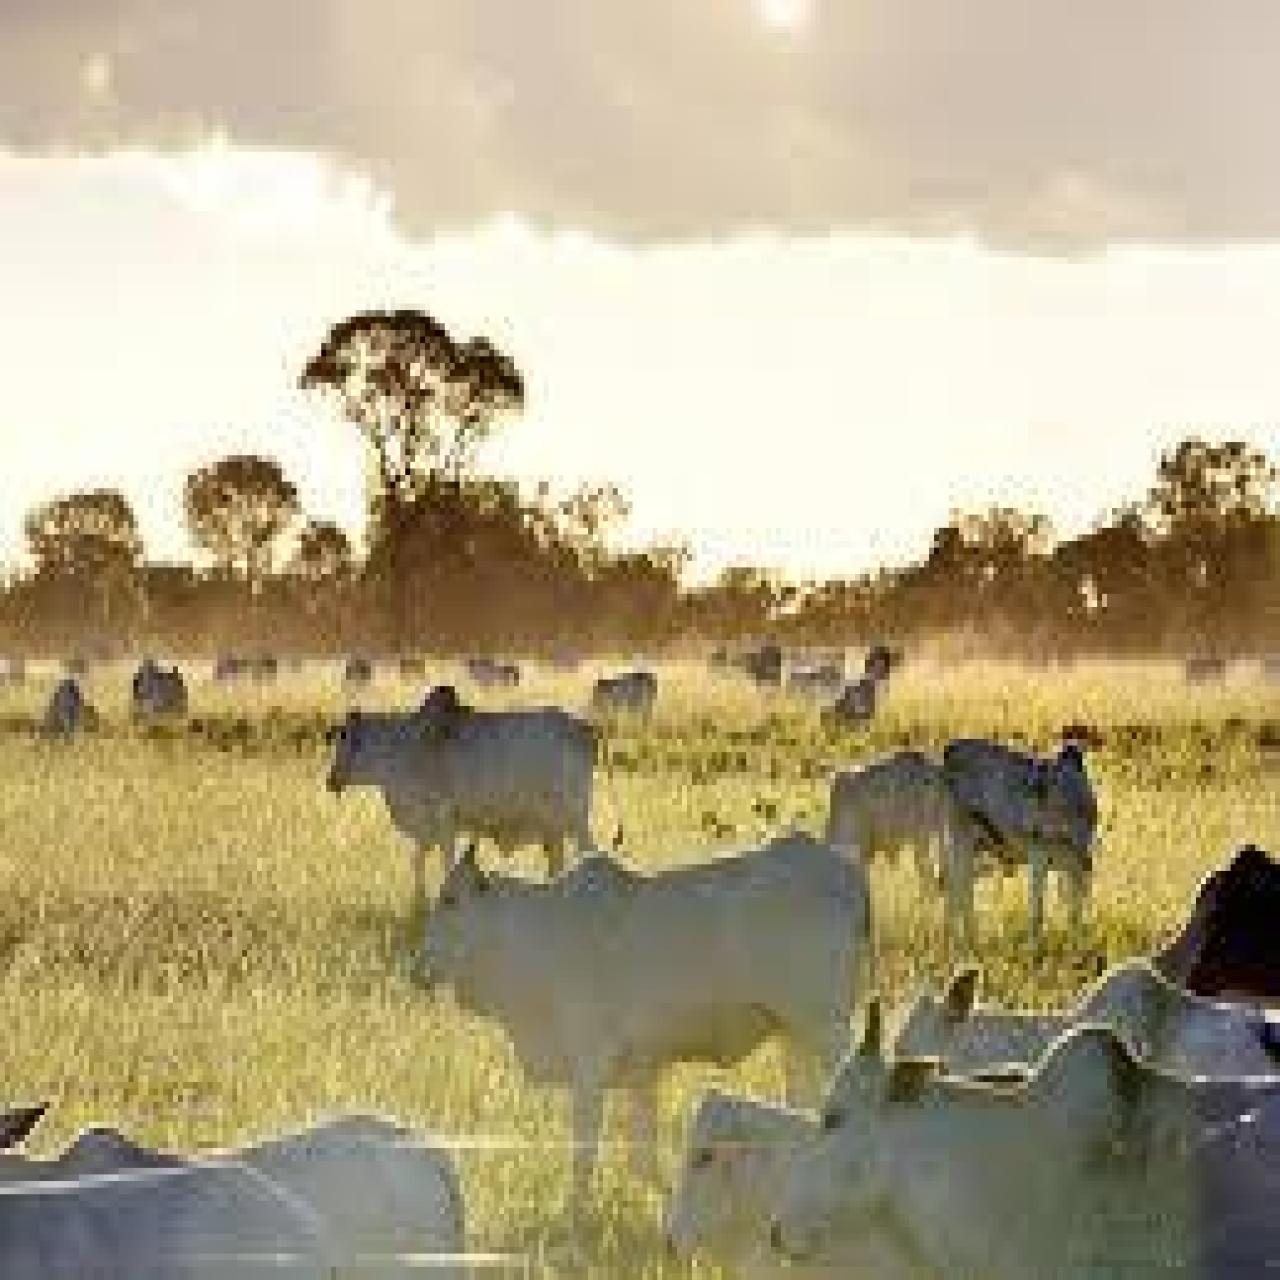cow: (403, 835, 877, 1211), (765, 989, 1280, 1280), (0, 1082, 469, 1280), (321, 686, 628, 911), (0, 1155, 331, 1280), (937, 733, 1104, 956), (647, 1082, 825, 1280), (823, 742, 956, 907)
